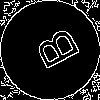B: (25, 25, 81, 76)
